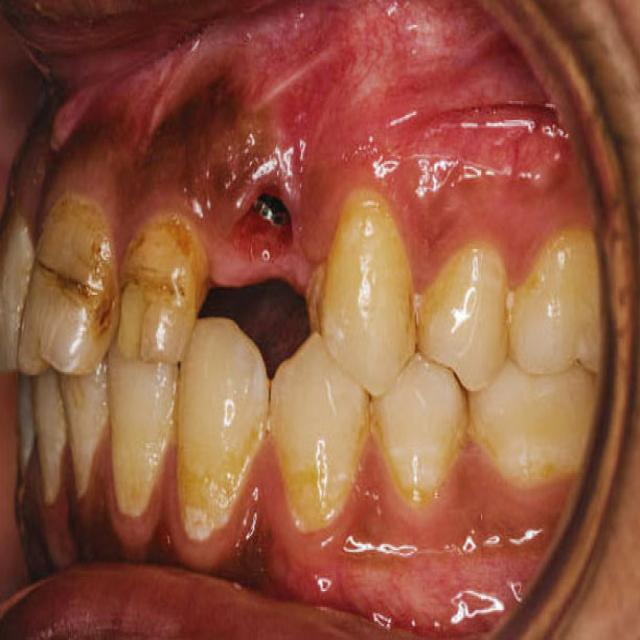caries: (35, 250, 97, 324), (125, 253, 188, 321)
